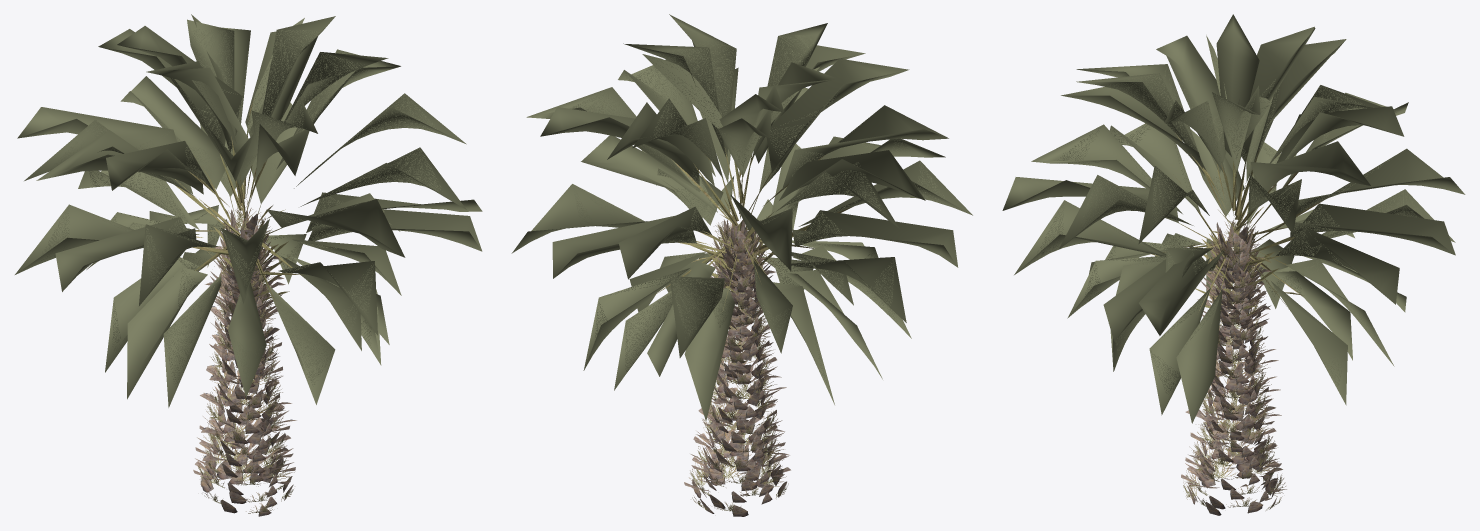
File: palm-fan.lod1.glb
3 renders of one model, left to right at view 1: azimuth 30°, elevation 25°; view 2: azimuth 150°, elevation 25°; view 3: azimuth 270°, elevation 25°, orthographic. The views are drawn at different scales.
Visible parts, largest first — view 1: _1_HP_Palm3_Trunk_0, _1_HP_Palm3_Leaf_2_0; view 2: _1_HP_Palm3_Trunk_0, _1_HP_Palm3_Leaf_2_0; view 3: _1_HP_Palm3_Trunk_0, _1_HP_Palm3_Leaf_2_0.
Part boxes in pixels (box(x1,y1,x2,y2)): _1_HP_Palm3_Trunk_0: box(15, 14, 482, 407); _1_HP_Palm3_Leaf_2_0: box(175, 99, 303, 516); _1_HP_Palm3_Trunk_0: box(511, 14, 972, 421); _1_HP_Palm3_Leaf_2_0: box(654, 116, 853, 516); _1_HP_Palm3_Trunk_0: box(1002, 14, 1465, 423); _1_HP_Palm3_Leaf_2_0: box(1150, 133, 1323, 515).
Size of the model in its own units: 9.08 by 9.91 by 9.31.
2 materials, 1 textured.
